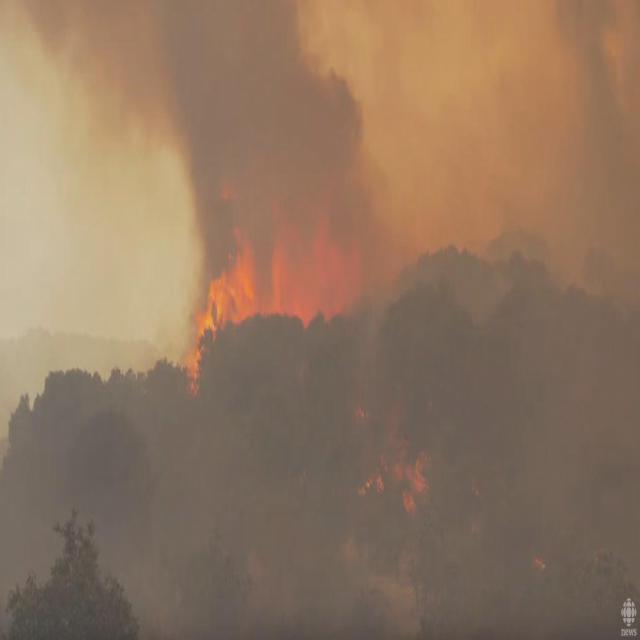Fire: (183, 195, 368, 396), (390, 432, 430, 490), (356, 474, 384, 498), (402, 494, 417, 515)
